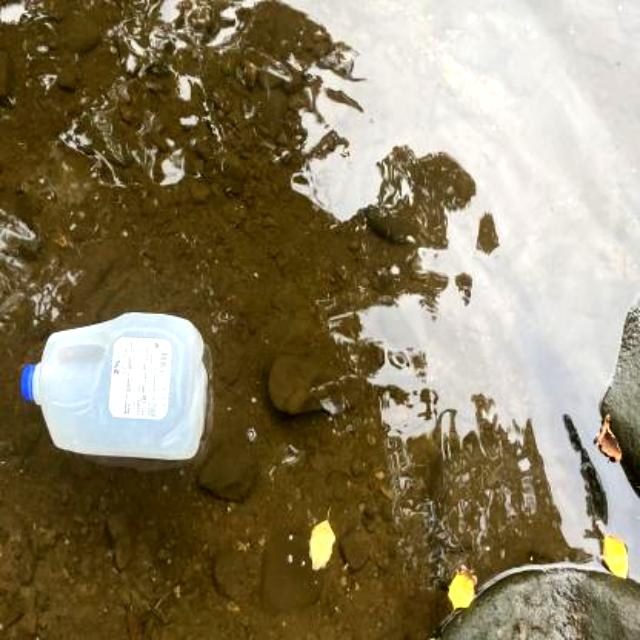Plastic: (13, 304, 220, 470)
